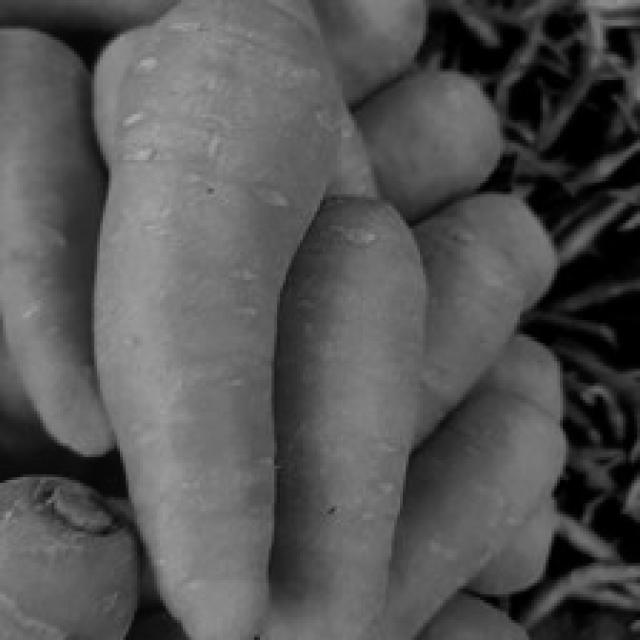Fresh_Carrot: (106, 23, 314, 640), (290, 236, 416, 640)
